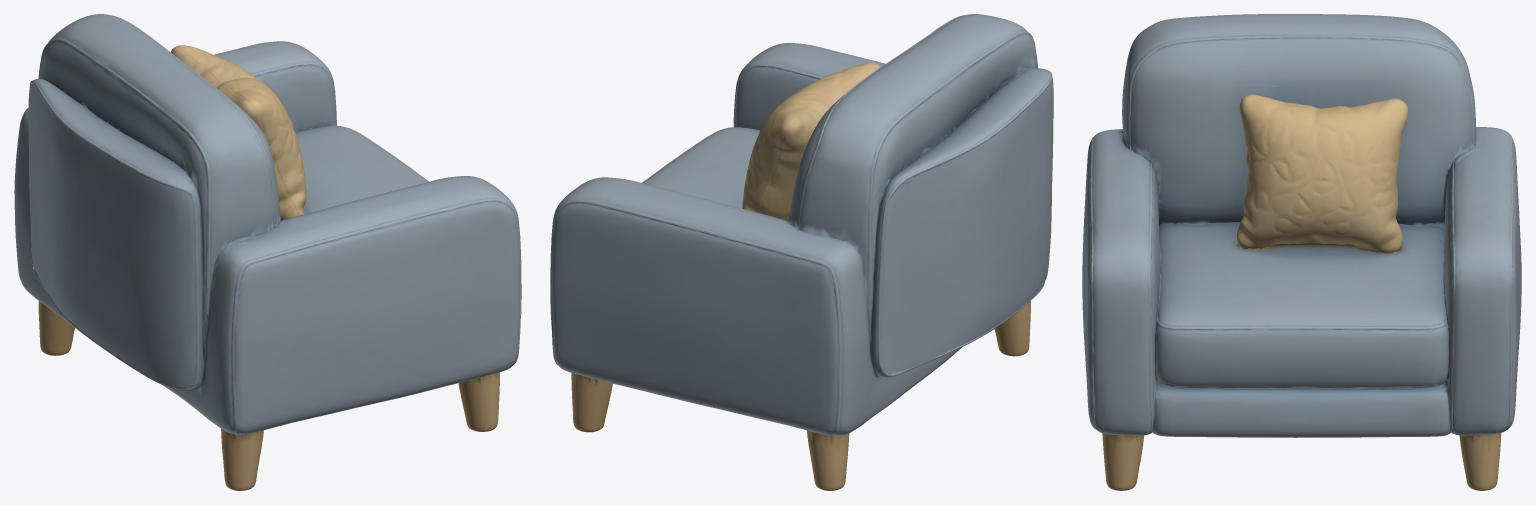
Rendered from DefaultSofa.fbx.
3 renders of one model, left to right at view 1: azimuth 30°, elevation 25°; view 2: azimuth 150°, elevation 25°; view 3: azimuth 270°, elevation 25°, orthographic. The views are drawn at different scales.
Visible parts, largest first — view 1: tripo_node_18e66b56; view 2: tripo_node_18e66b56; view 3: tripo_node_18e66b56.
Boxes of the visible parts, left/top/right/bottom form: tripo_node_18e66b56: left=14, top=14, right=521, bottom=490; tripo_node_18e66b56: left=550, top=14, right=1053, bottom=490; tripo_node_18e66b56: left=1082, top=14, right=1521, bottom=490.
Bounding box in the file's own units: 0.894 × 0.87 × 0.9803.
